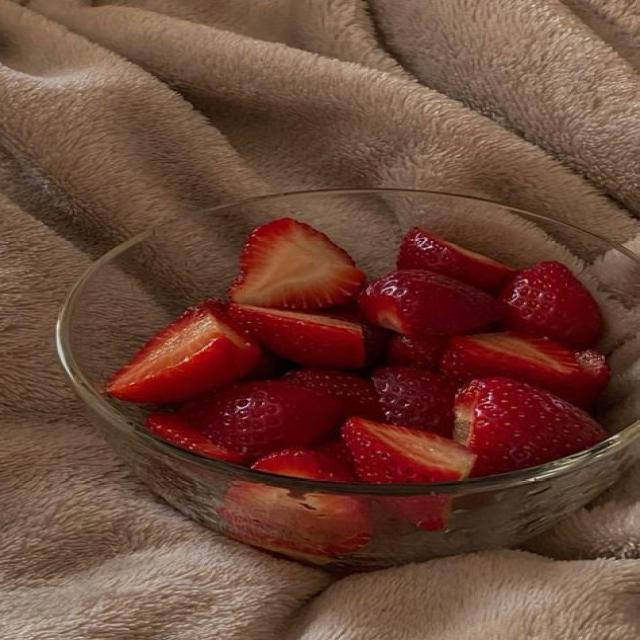strawberry sliced: (107, 301, 259, 403), (454, 378, 606, 475), (181, 381, 342, 459), (219, 482, 369, 564), (229, 218, 364, 309), (442, 333, 583, 401), (360, 270, 499, 337), (501, 262, 602, 348), (230, 304, 365, 368), (342, 419, 475, 483), (397, 227, 515, 292), (373, 367, 459, 436), (284, 369, 382, 420), (146, 413, 244, 463), (323, 302, 395, 365), (559, 350, 610, 407), (388, 335, 448, 369), (315, 439, 356, 481), (245, 350, 291, 379)
